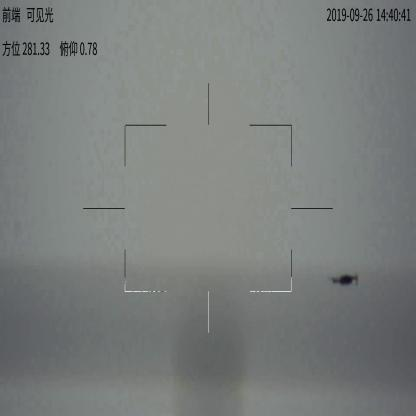uav: (326, 271, 362, 290)
